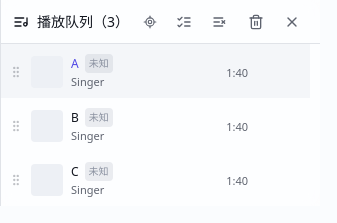
Test: 播放队列：全选图标反映当前状态 › 没选是空方框、选一部分是半选、全选是勾选方框
Click the button named "批量管理" at coordinates (184, 22), box [168, 6, 200, 38]
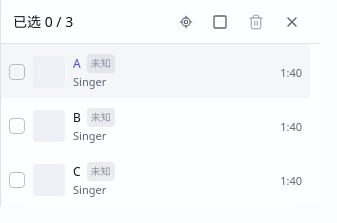
Check: the icon with class "lucide-square" is shown, box [212, 14, 228, 30]
全选 3/3 → 勾选方框（图标说的是当前状态，不是「点了会变成什么」）
Click the button named "全选" at coordinates (220, 22), box [204, 6, 236, 38]
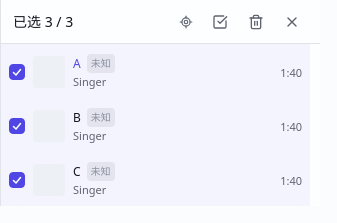
Check: the button named "全不选" is shown, box [204, 6, 236, 38]
Check: the icon with class "lucide-square-check-big" is shown, box [212, 14, 228, 30]
Check: the icon with class "lucide-square" is gone
Click the button "A 未知 Singer 1:40" at coordinates (49, 72), box [1, 44, 310, 98]
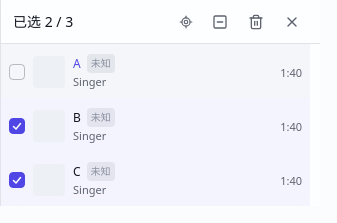
Check: the button named "全选" is shown, box [204, 6, 236, 38]
Check: the icon with class "lucide-square-minus" is shown, box [212, 14, 228, 30]
